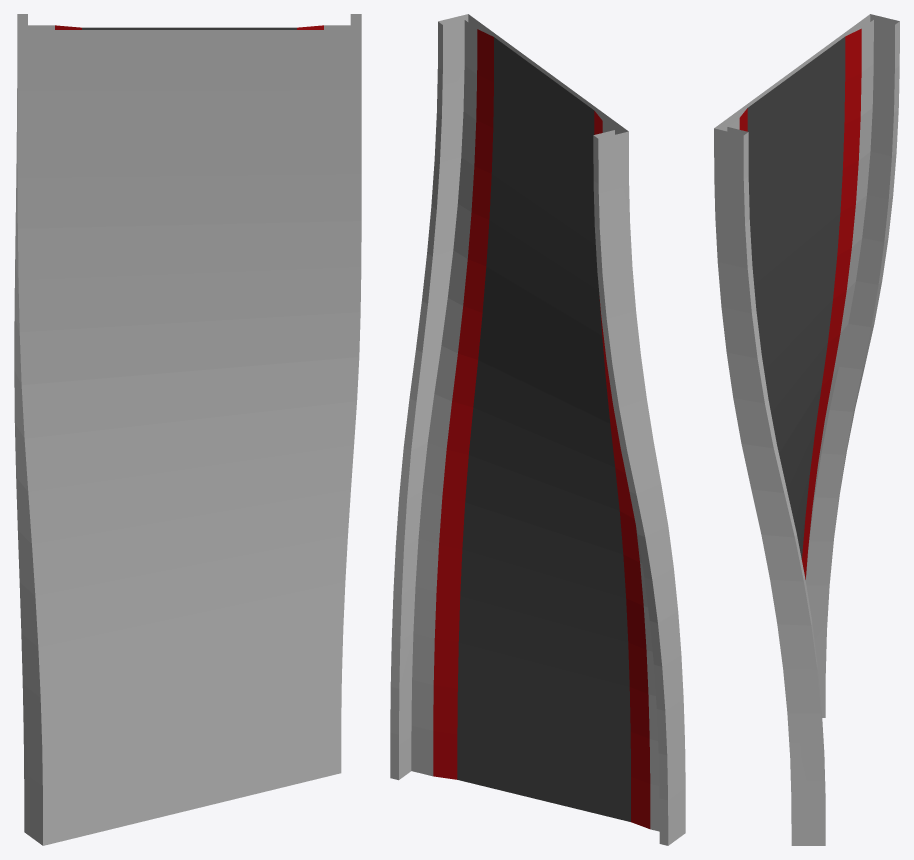
File: Transition_Left_Pitch2.fbx
3 views of the same model, side by side, from view 1: azimuth 30°, elevation 25°; view 2: azimuth 150°, elevation 25°; view 3: azimuth 270°, elevation 25° (orthographic). The views are drawn at different scales.
Parts seen in each view (by area): view 1: Transition_Left_Pitch2; view 2: Transition_Left_Pitch2; view 3: Transition_Left_Pitch2.
Part boxes in pixels (<box>): Transition_Left_Pitch2: <box>14,14,361,845</box>; Transition_Left_Pitch2: <box>390,14,685,845</box>; Transition_Left_Pitch2: <box>714,14,899,845</box>.
Bounding box in the file's own units: 1291 × 3200 × 761.
